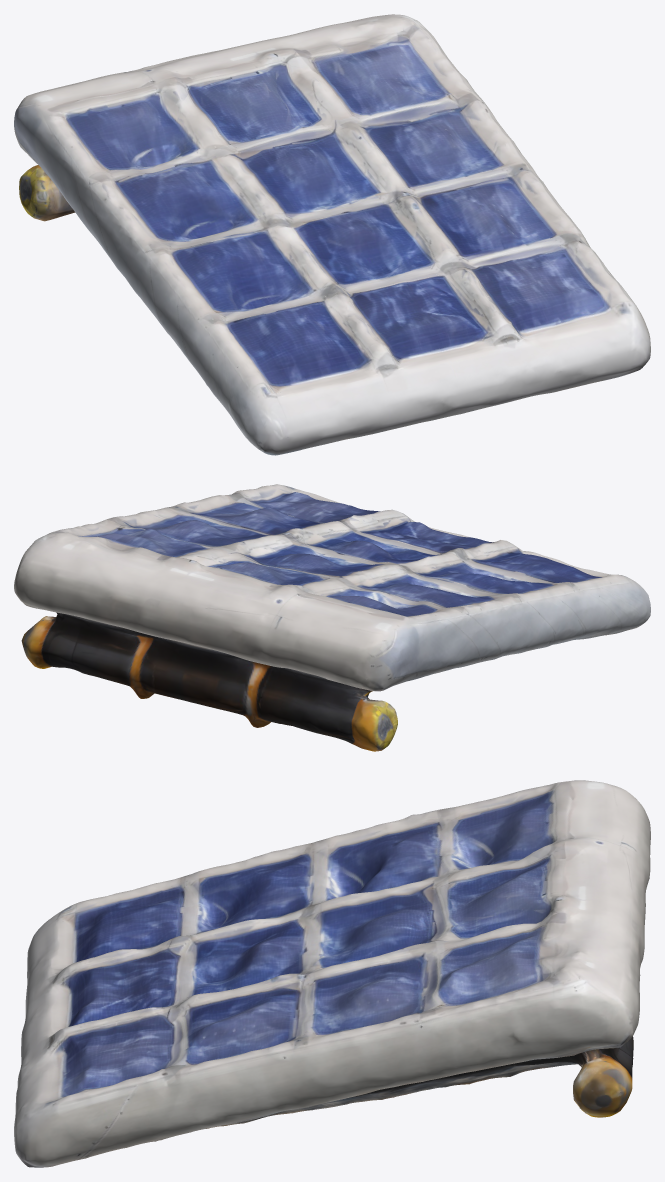
The model's file is f20aa858-a7cb-4028-ad15-cff2e98a4ce9.glb.
The picture shows the model from 3 angles, top to bottom: view 1: azimuth 30°, elevation 25°; view 2: azimuth 150°, elevation 25°; view 3: azimuth 270°, elevation 25°; orthographic projection. The views are drawn at different scales.
Size of the model in its own units: 1 by 0.4352 by 1.2.
Materials: 1 (1 with a texture image).
